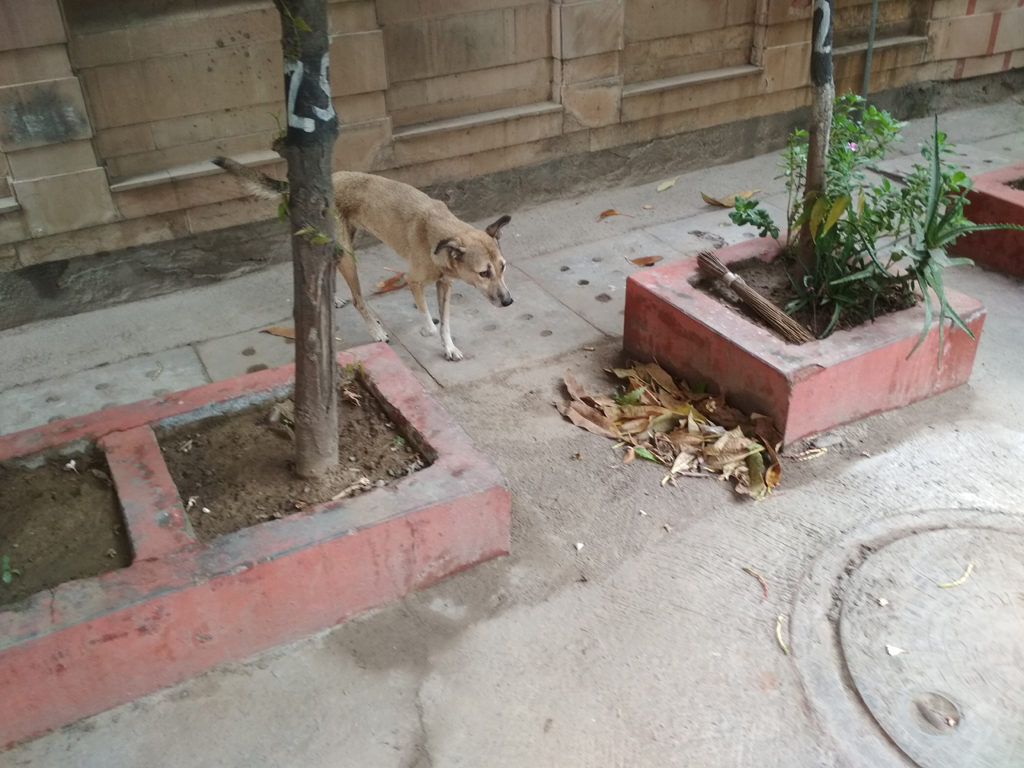dog: (212, 154, 515, 360)
